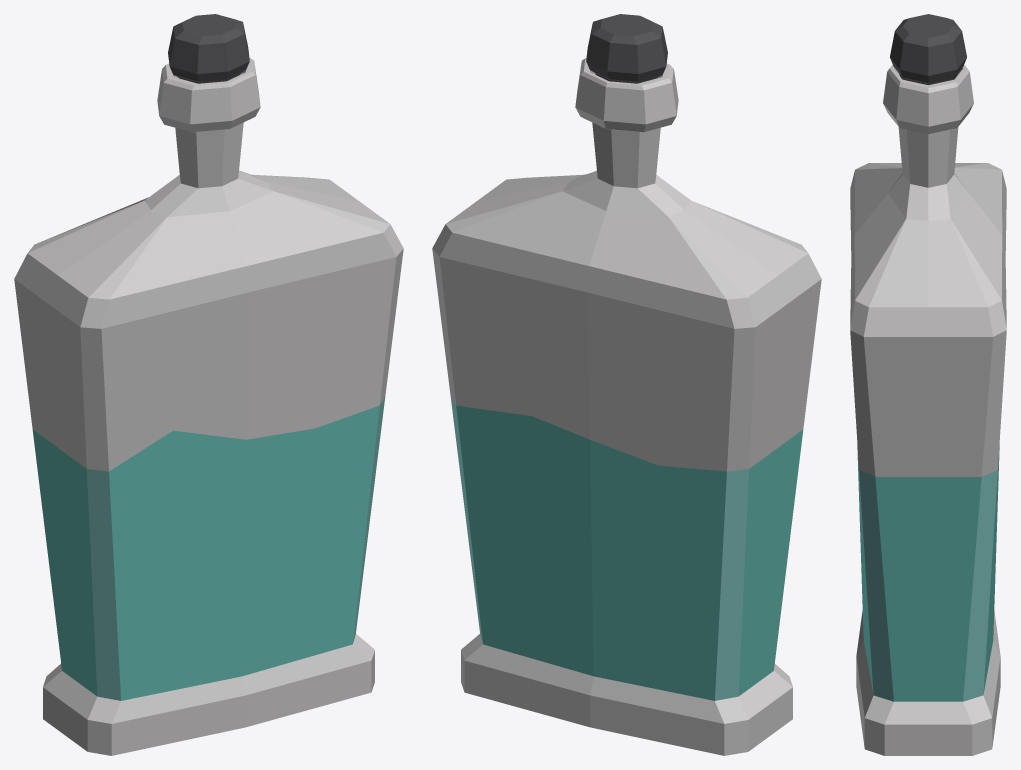
The model's file is WF_LP_HT_Props_PotionBottle.011.fbx.
The picture shows the model from 3 angles, left to right: view 1: azimuth 30°, elevation 25°; view 2: azimuth 150°, elevation 25°; view 3: azimuth 270°, elevation 25°; orthographic projection. The views are drawn at different scales.
Visible parts, largest first — view 1: WF_LP_HT_Props_PotionBottle.011; view 2: WF_LP_HT_Props_PotionBottle.011; view 3: WF_LP_HT_Props_PotionBottle.011.
Part boxes in pixels (bbox=[...]): WF_LP_HT_Props_PotionBottle.011: bbox=[14, 14, 403, 755]; WF_LP_HT_Props_PotionBottle.011: bbox=[432, 14, 821, 755]; WF_LP_HT_Props_PotionBottle.011: bbox=[850, 14, 1006, 755].
Size of the model in its own units: 0.2236 by 0.446 by 0.0958.
